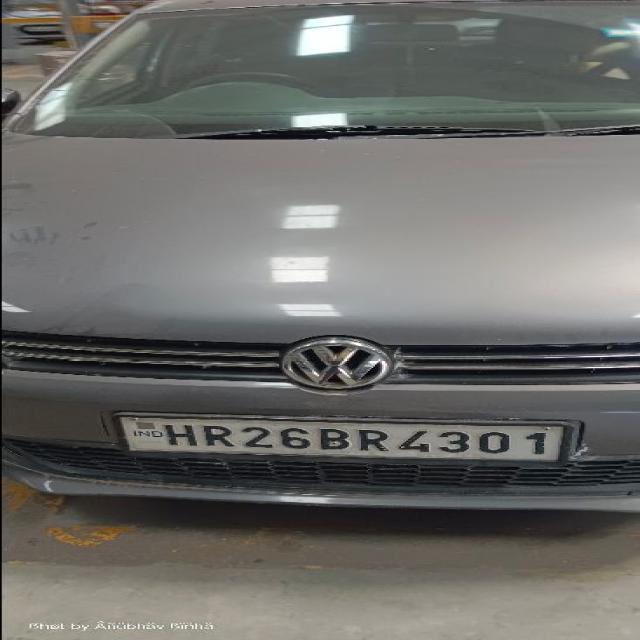license_plate: (110, 411, 575, 463)
